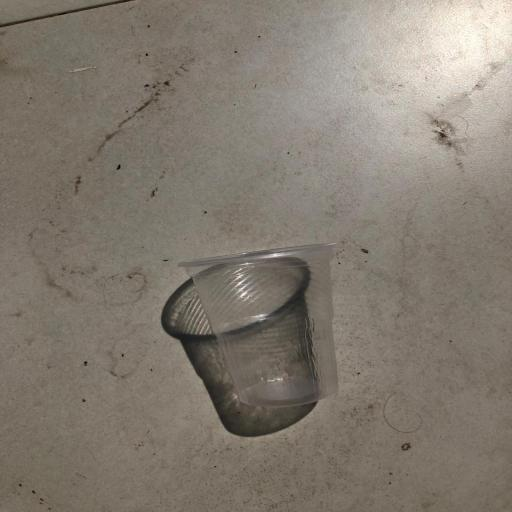waste: (165, 233, 393, 420)
